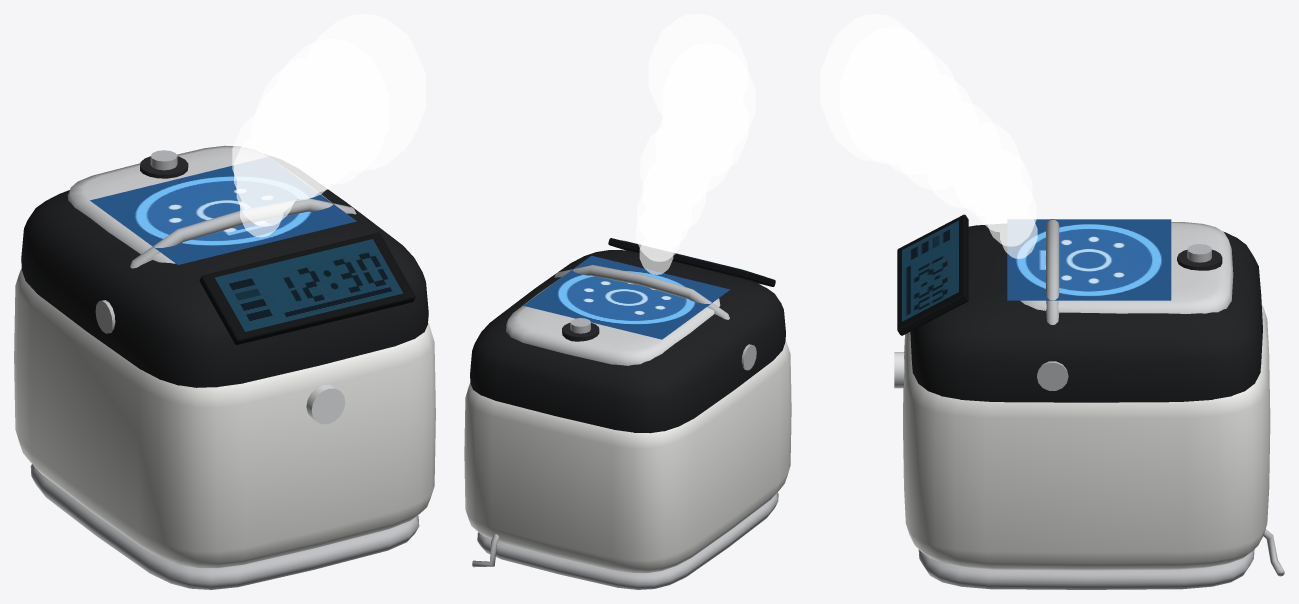
File: rice_cooker.glb
3 views of the same model, side by side, from view 1: azimuth 30°, elevation 25°; view 2: azimuth 150°, elevation 25°; view 3: azimuth 270°, elevation 25° (orthographic). The views are drawn at different scales.
Visible parts, largest first — view 1: rice_cooker_body, rice_cooker_lid, rice_cooker_steam, rice_cooker_top_panel, rice_cooker_display, rice_cooker_panel, rice_cooker_handle; view 2: rice_cooker_body, rice_cooker_lid, rice_cooker_steam, rice_cooker_top_panel, rice_cooker_handle, rice_cooker_panel; view 3: rice_cooker_body, rice_cooker_lid, rice_cooker_steam, rice_cooker_top_panel, rice_cooker_display, rice_cooker_panel, rice_cooker_handle.
Boxes of the visible parts, box(x1,y1,x2,y2) form: rice_cooker_body: box(14, 267, 435, 589); rice_cooker_lid: box(21, 145, 428, 424); rice_cooker_steam: box(232, 14, 425, 237); rice_cooker_top_panel: box(90, 165, 356, 264); rice_cooker_display: box(215, 239, 402, 331); rice_cooker_panel: box(199, 232, 415, 344); rice_cooker_handle: box(95, 198, 356, 333); rice_cooker_body: box(464, 340, 791, 589); rice_cooker_lid: box(470, 250, 785, 433); rice_cooker_steam: box(636, 14, 755, 274); rice_cooker_top_panel: box(523, 255, 730, 339); rice_cooker_handle: box(554, 265, 756, 370); rice_cooker_panel: box(608, 238, 775, 286); rice_cooker_body: box(903, 304, 1270, 589); rice_cooker_lid: box(894, 222, 1262, 402); rice_cooker_steam: box(820, 14, 1037, 258); rice_cooker_top_panel: box(1007, 219, 1171, 300); rice_cooker_display: box(902, 220, 958, 321); rice_cooker_panel: box(897, 214, 968, 335); rice_cooker_handle: box(1037, 219, 1068, 390).
Size of the model in its own units: 0.27 by 0.5135 by 0.4108.
Materials: 10 (2 with a texture image).
